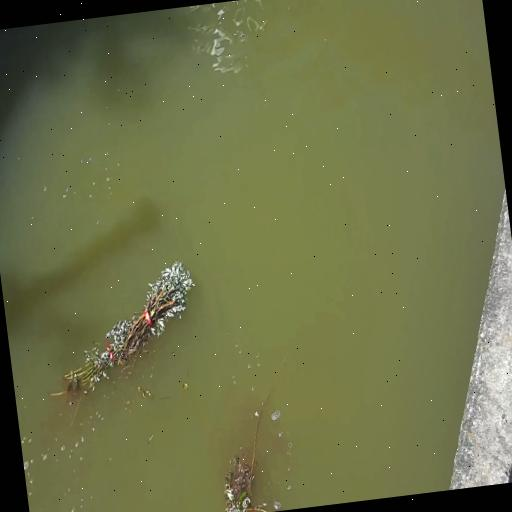twig: (50, 260, 194, 396), (224, 351, 290, 512)
